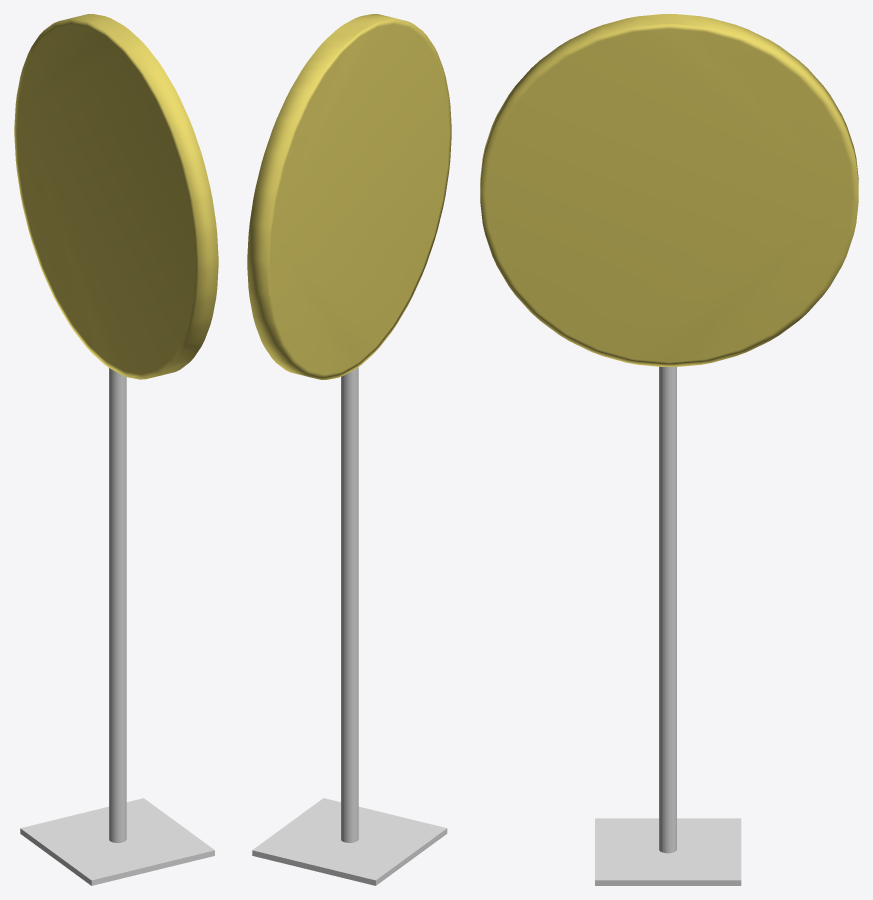
File: placa 1.fbx
3 views of the same model, side by side, from view 1: azimuth 30°, elevation 25°; view 2: azimuth 150°, elevation 25°; view 3: azimuth 270°, elevation 25° (orthographic). The views are drawn at different scales.
Visible parts, largest first — view 1: Cube; view 2: Cube; view 3: Cube.
Part boxes in pixels (x1=…): Cube: x1=14, y1=14, x2=218, y2=885; Cube: x1=247, y1=14, x2=451, y2=885; Cube: x1=480, y1=14, x2=858, y2=885.
Size of the model in its own units: 26.2 by 165 by 67.79.
